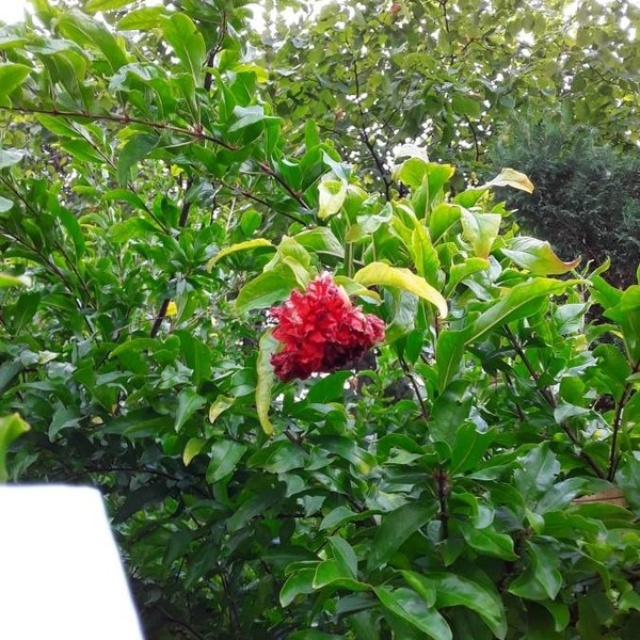obstacle: (32, 20, 564, 582)
